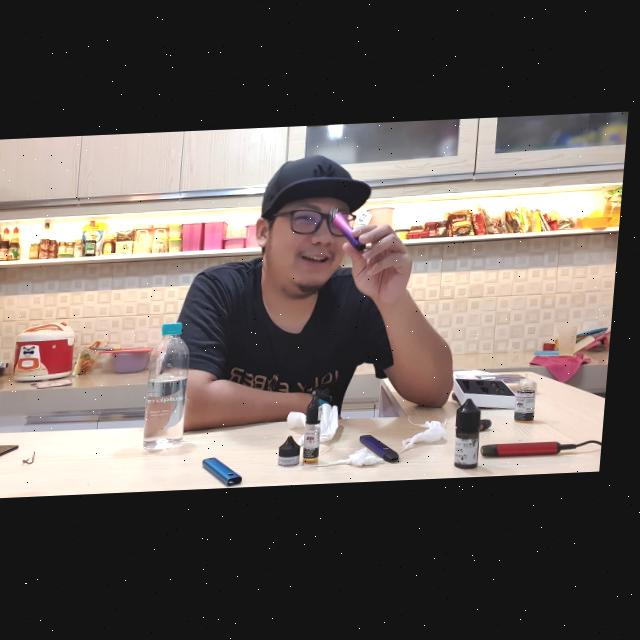vape: (332, 208, 373, 260), (209, 458, 253, 490), (366, 437, 410, 466), (489, 447, 570, 462)
